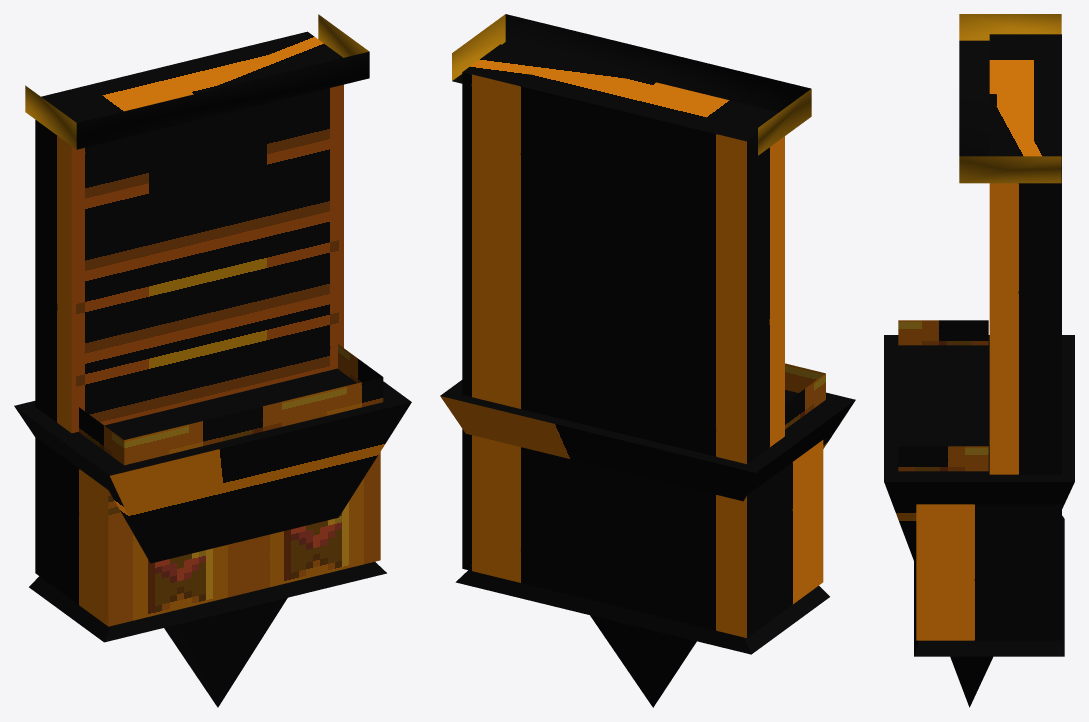
3 views of the same model, side by side, from view 1: azimuth 30°, elevation 25°; view 2: azimuth 150°, elevation 25°; view 3: azimuth 270°, elevation 25° (orthographic). The views are drawn at different scales.
Parts seen in each view (by area): view 1: 3754kg_sh0_01; view 2: 3754kg_sh0_01; view 3: 3754kg_sh0_01.
Part boxes in pixels (<box>): 3754kg_sh0_01: <box>14,14,411,707</box>; 3754kg_sh0_01: <box>440,14,855,707</box>; 3754kg_sh0_01: <box>884,14,1074,707</box>.
Size of the model in its own units: 1.38 by 2.73 by 0.7568.
Materials: 4 (4 with a texture image).
